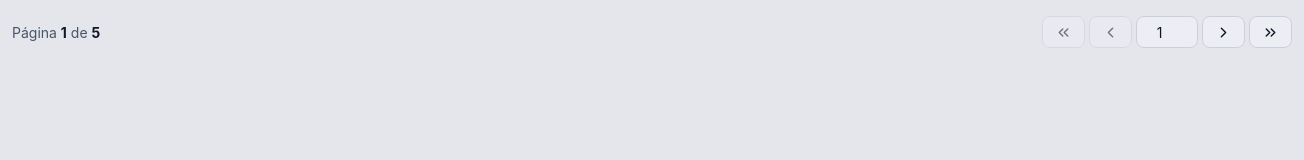
Pagination › navigates with buttons and a valid typed page
Click the button named "Ir a la página siguiente".
click(1224, 32)  # box [1202, 16, 1245, 48]
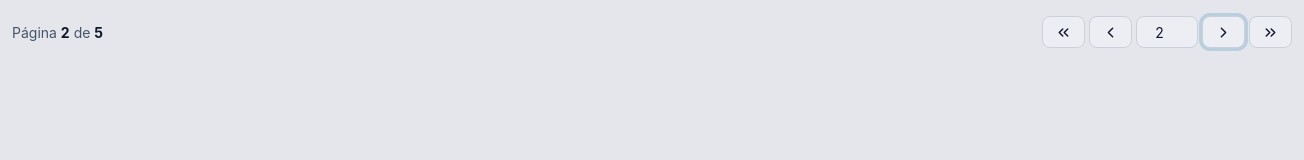
Now the navigation bar named "Paginación de resultados" reads "Página 2 de 5", box [12, 0, 1292, 48]
Replace the text in the number field named "Página" with "4" at x=1167, y=32, box [1136, 16, 1198, 48]
Then press Enter
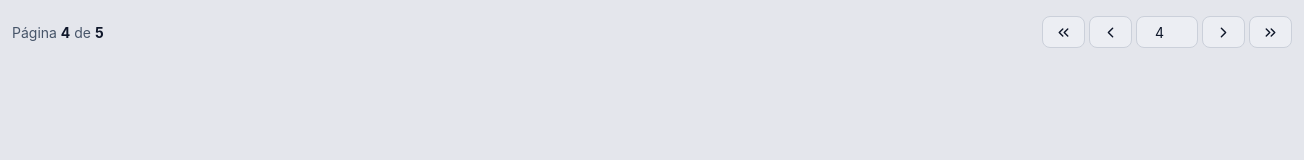
Now the navigation bar named "Paginación de resultados" reads "Página 4 de 5", box [12, 0, 1292, 48]
